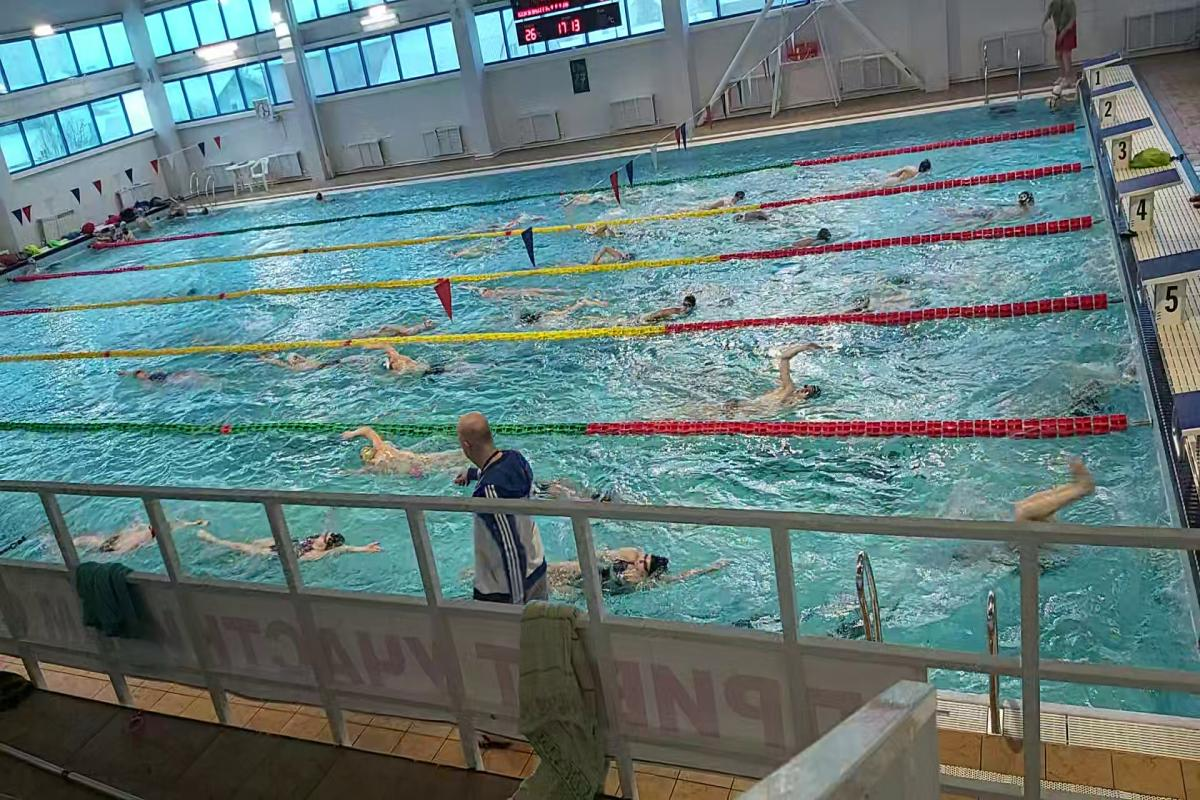swimmer: (958, 456, 1091, 573), (538, 540, 700, 590), (206, 530, 376, 574), (34, 508, 194, 552), (332, 434, 468, 482), (717, 352, 815, 418), (831, 278, 930, 315), (115, 364, 224, 397), (374, 348, 492, 374), (485, 303, 614, 326), (261, 348, 360, 377), (861, 161, 954, 185), (348, 313, 433, 334), (993, 186, 1049, 216), (570, 248, 649, 268), (784, 226, 841, 252), (697, 190, 757, 202)
